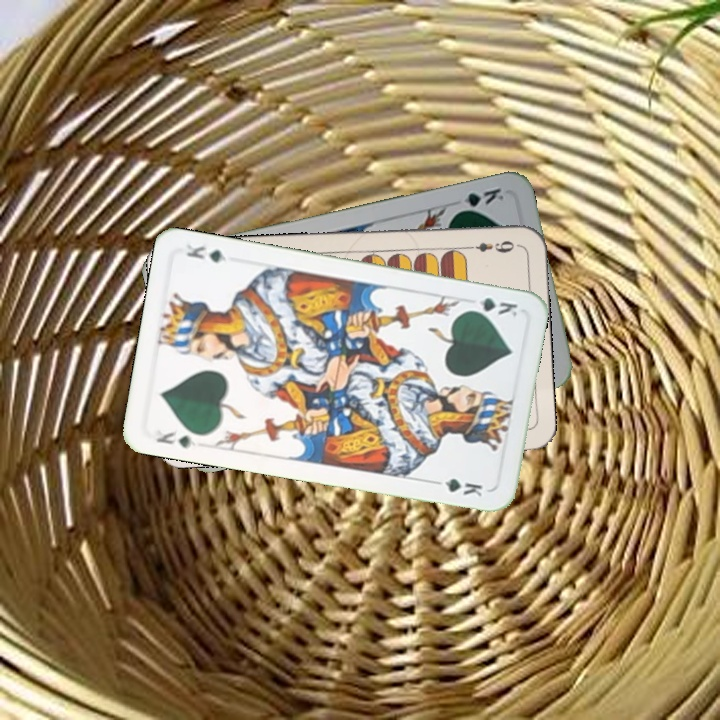E9: (461, 236, 517, 255)
GK: (451, 184, 506, 216), (463, 293, 520, 319), (151, 426, 198, 451)
